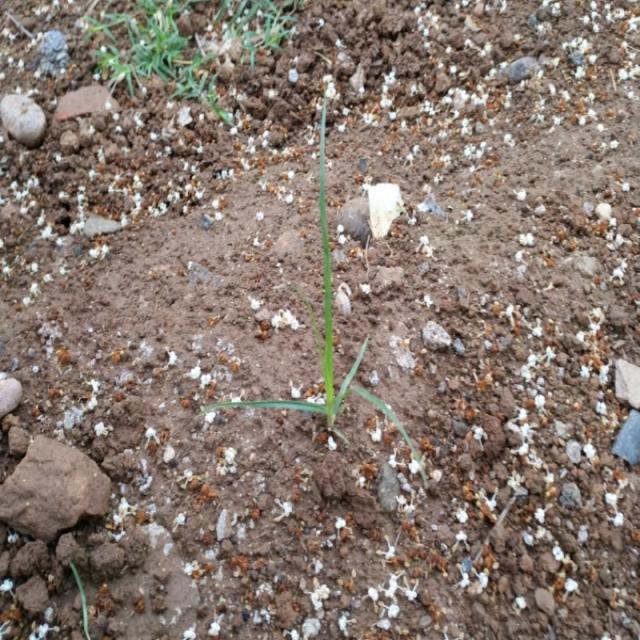sedge: (189, 90, 452, 490)
